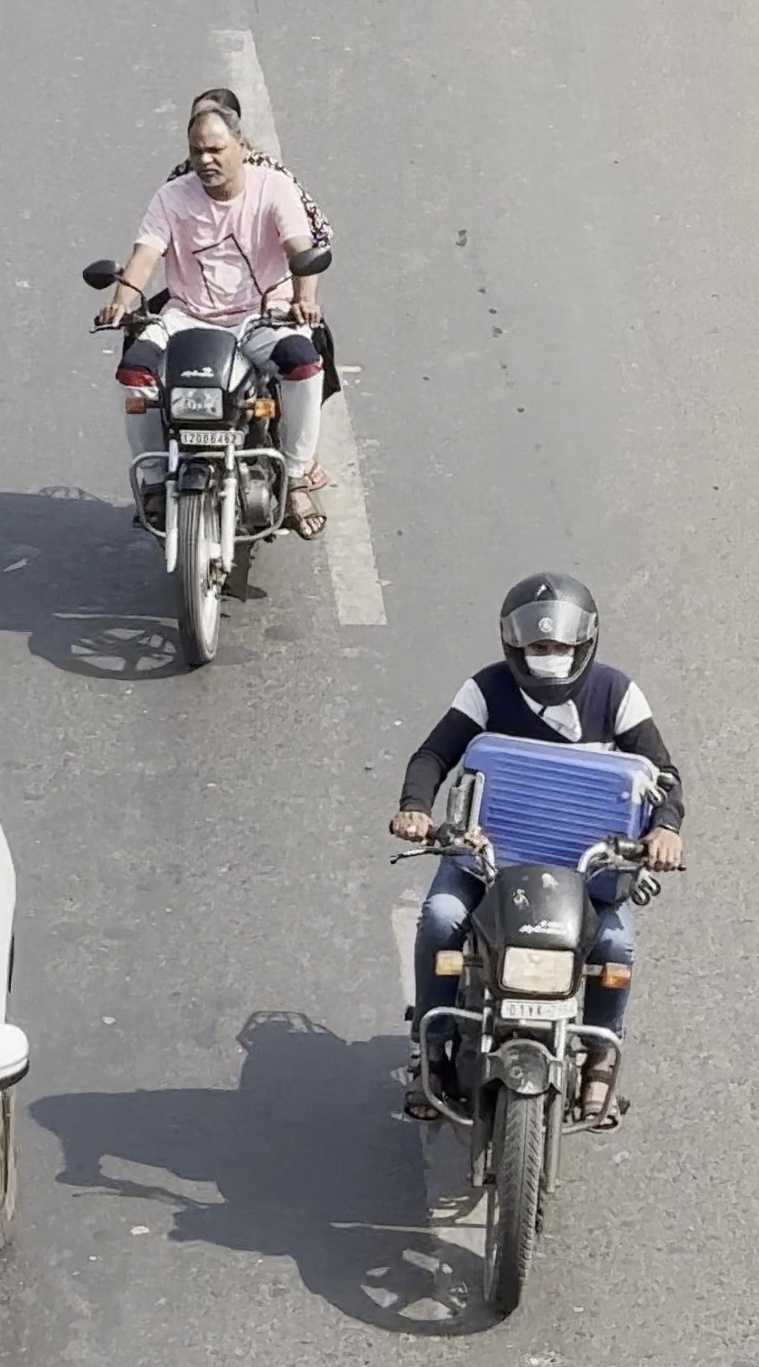BikeWithRider: (375, 558, 698, 1328), (72, 76, 355, 677)
Helmet: (483, 559, 615, 709)
NoHelmet: (169, 86, 262, 201)
